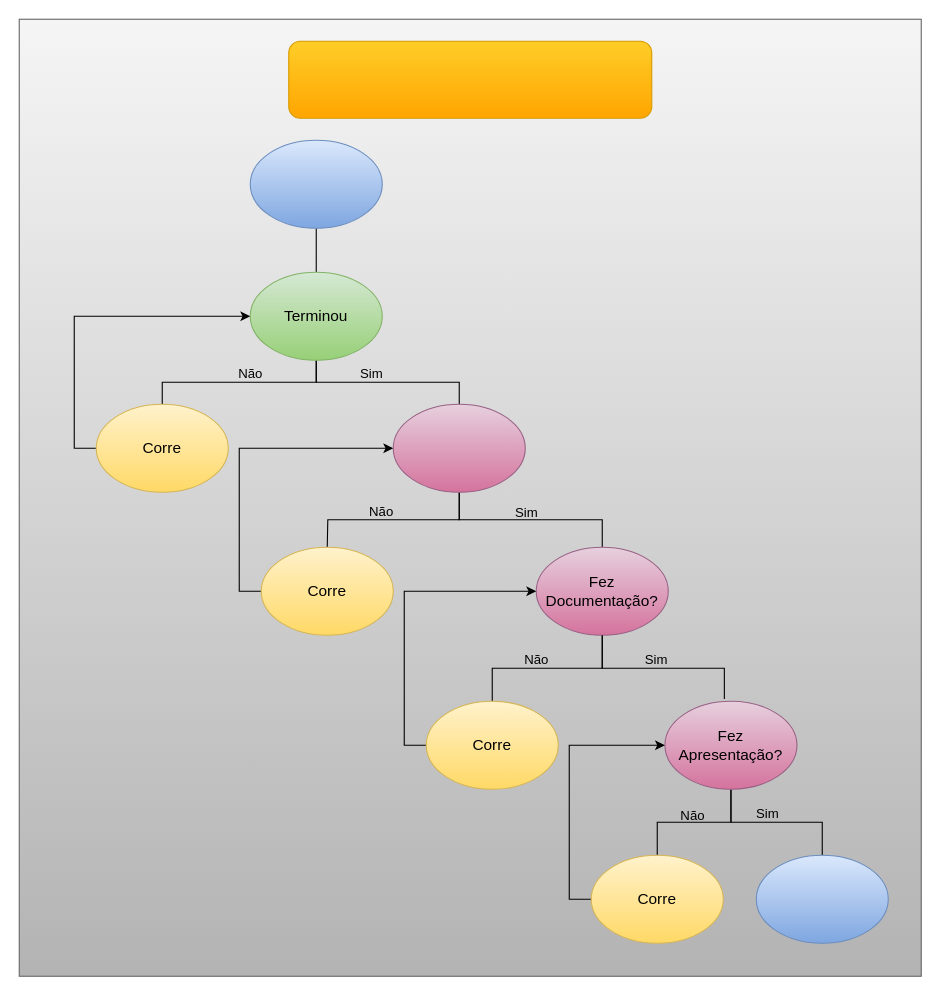
The diagram is 941 pixels wide and 996 high, and some of its shapes have lost their labels. Here are the shapes that lost their labels. From the top down, the box of each, then its label:
(288, 40, 652, 118): Projeto Corre! Aplicativo interativo
(249, 139, 382, 228): Início
(392, 403, 525, 492): Fez Mobile?
(755, 854, 888, 943): Fim
